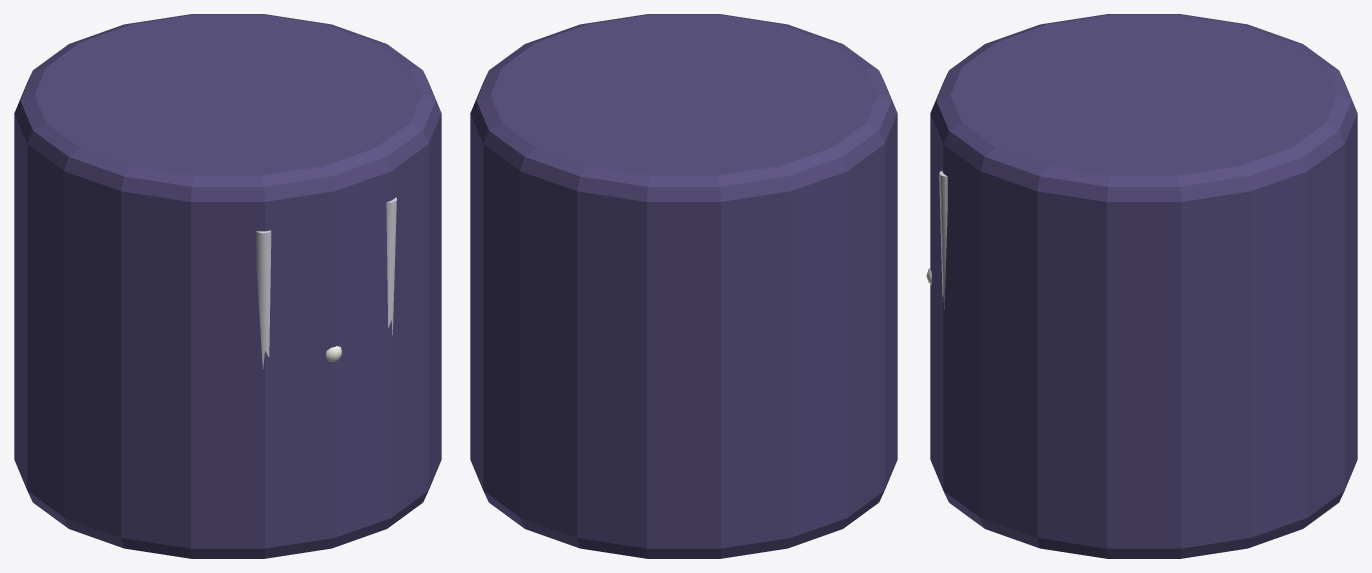
Rendered from pearl_storage_barrel.glb.
3 renders of one model, left to right at view 1: azimuth 30°, elevation 25°; view 2: azimuth 150°, elevation 25°; view 3: azimuth 270°, elevation 25°, orthographic.
Parts seen in each view (by area): view 1: pearl_storage_barrel.001; view 2: pearl_storage_barrel.001; view 3: pearl_storage_barrel.001.
Part boxes in pixels (box(x1,y1,x2,y2)): pearl_storage_barrel.001: box(14, 14, 441, 558); pearl_storage_barrel.001: box(470, 14, 897, 558); pearl_storage_barrel.001: box(926, 14, 1357, 558).
Bounding box in the file's own units: 3.39 × 3.4 × 3.47.
